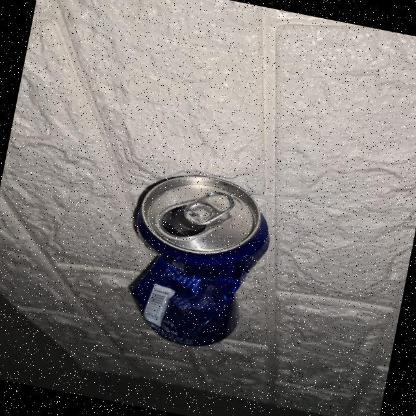Can: (107, 164, 281, 358)
